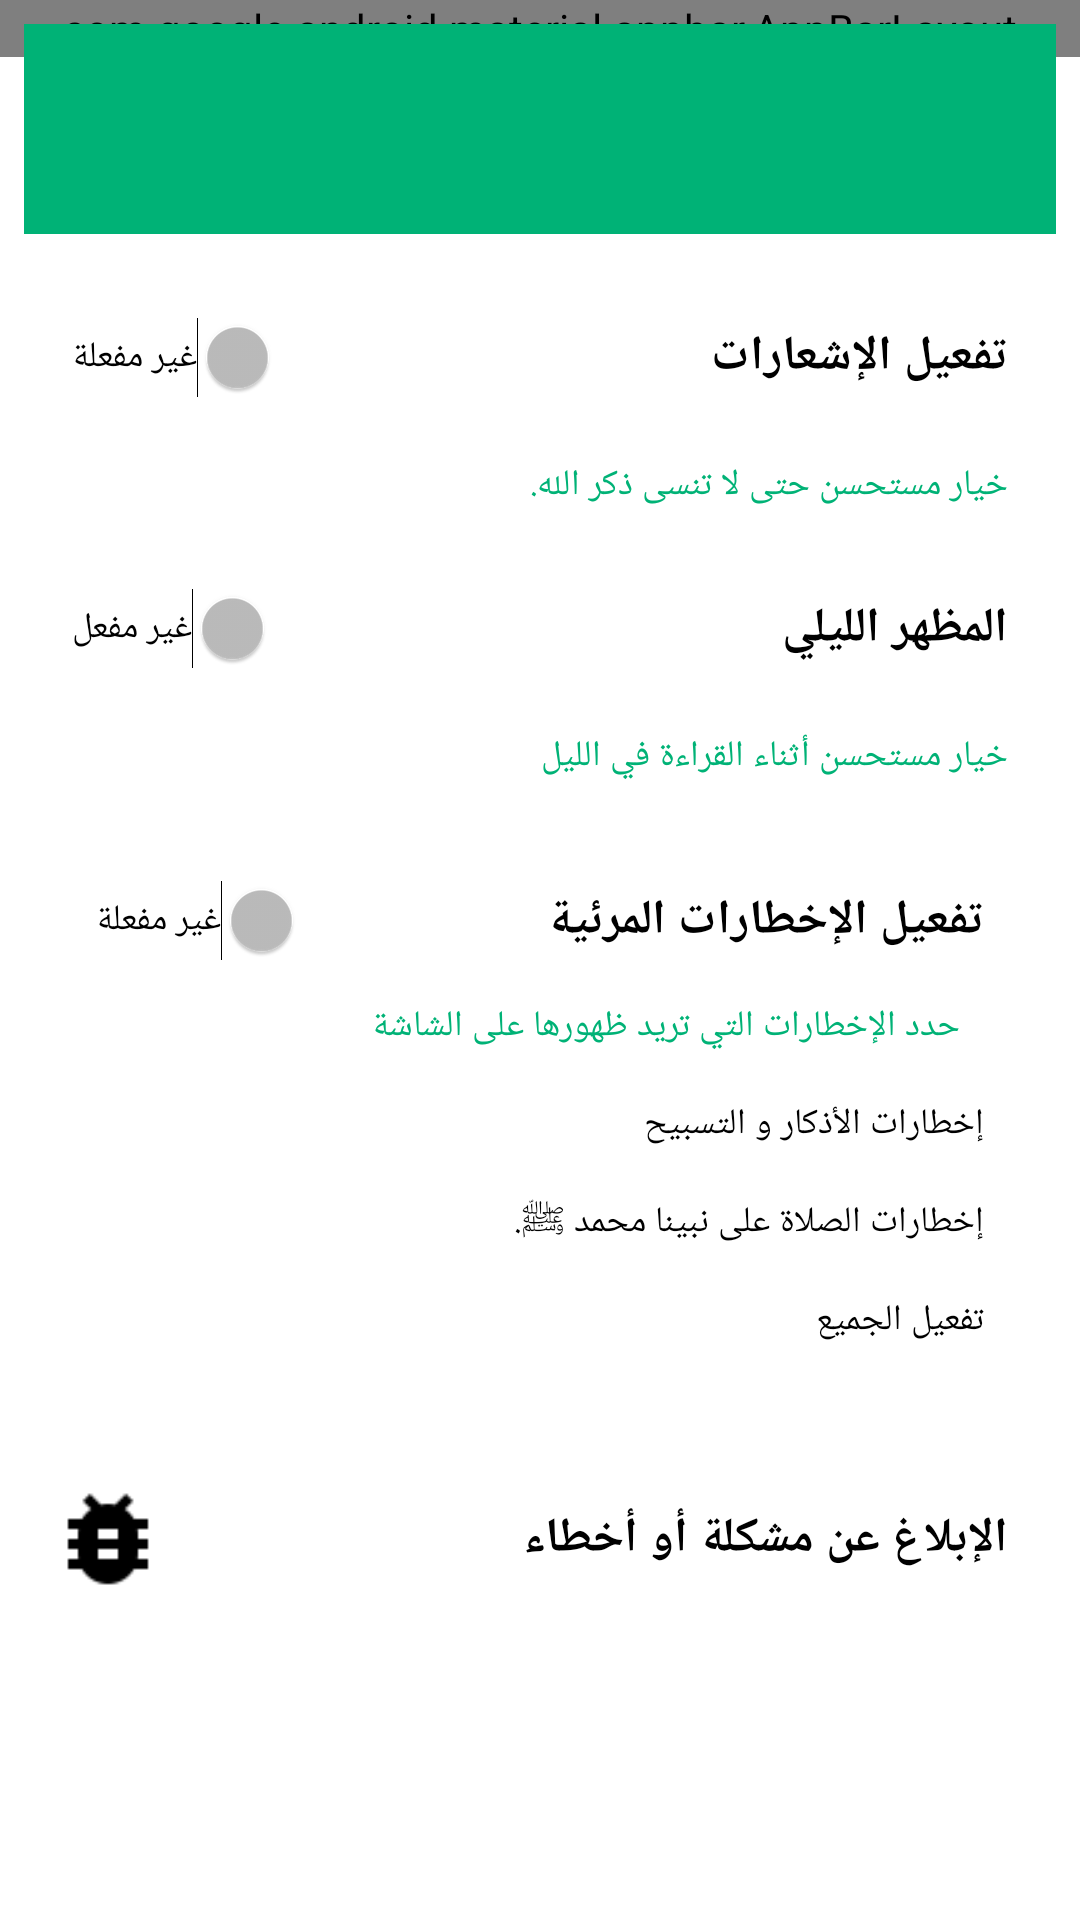

Named icons in this screenshot (1080×1920) and their bounding boxes, (x1, y1, x2, y2):
bug report: (67, 1493, 149, 1585)
